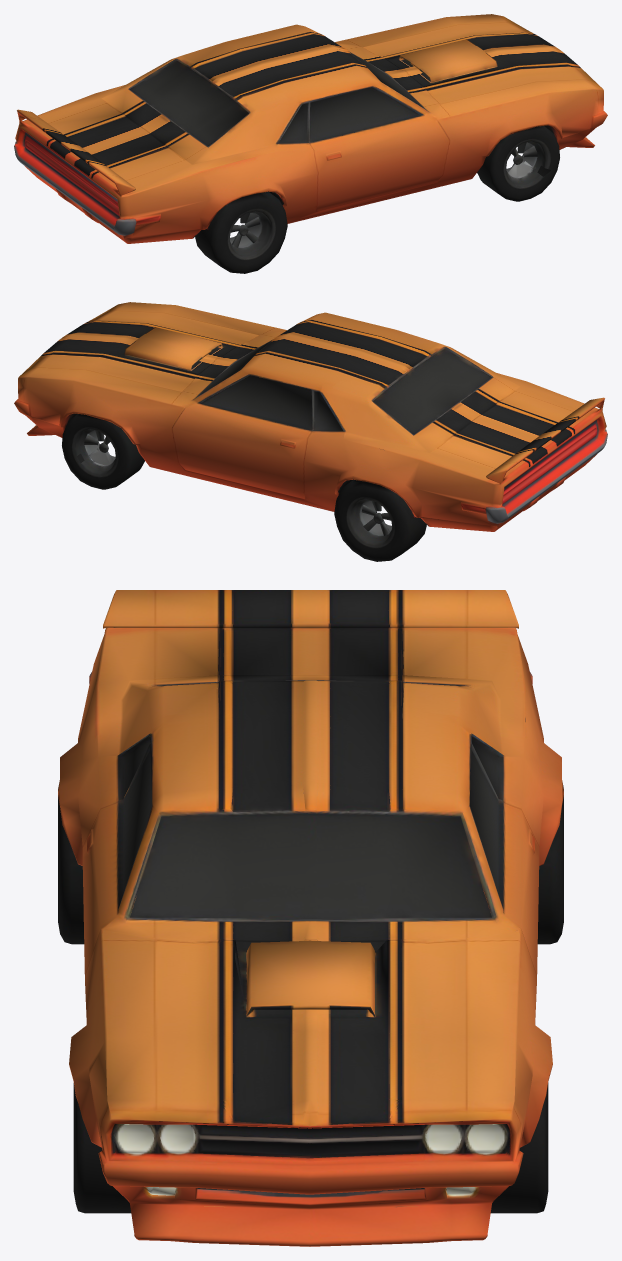
Rendered from muscle-car-tripo.glb.
The picture shows the model from 3 angles, top to bottom: view 1: azimuth 30°, elevation 25°; view 2: azimuth 150°, elevation 25°; view 3: azimuth 270°, elevation 25°; orthographic projection. The views are drawn at different scales.
Parts seen in each view (by area): view 1: tripo_node_94dfe732-9602-4c66-a844-f1ca603326e4; view 2: tripo_node_94dfe732-9602-4c66-a844-f1ca603326e4; view 3: tripo_node_94dfe732-9602-4c66-a844-f1ca603326e4.
Boxes of the visible parts, x1,y1,x2,y2 form: tripo_node_94dfe732-9602-4c66-a844-f1ca603326e4: (14,14,607,273); tripo_node_94dfe732-9602-4c66-a844-f1ca603326e4: (14,302,607,561); tripo_node_94dfe732-9602-4c66-a844-f1ca603326e4: (58,590,563,1246).
Size of the model in its own units: 1 by 0.2818 by 0.4403.
Materials: 1 (1 with a texture image).
